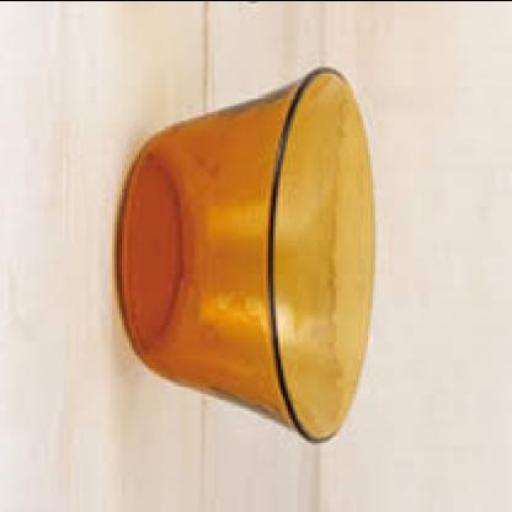glass: (119, 64, 378, 439)
